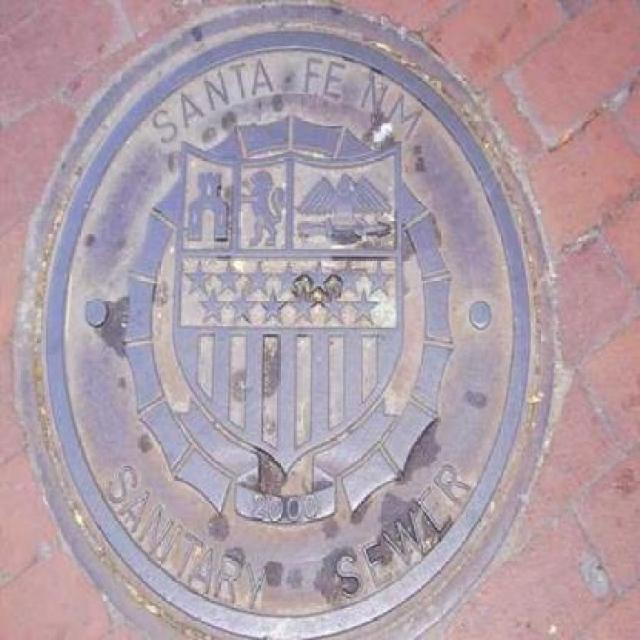Manhole: (16, 5, 572, 632)
